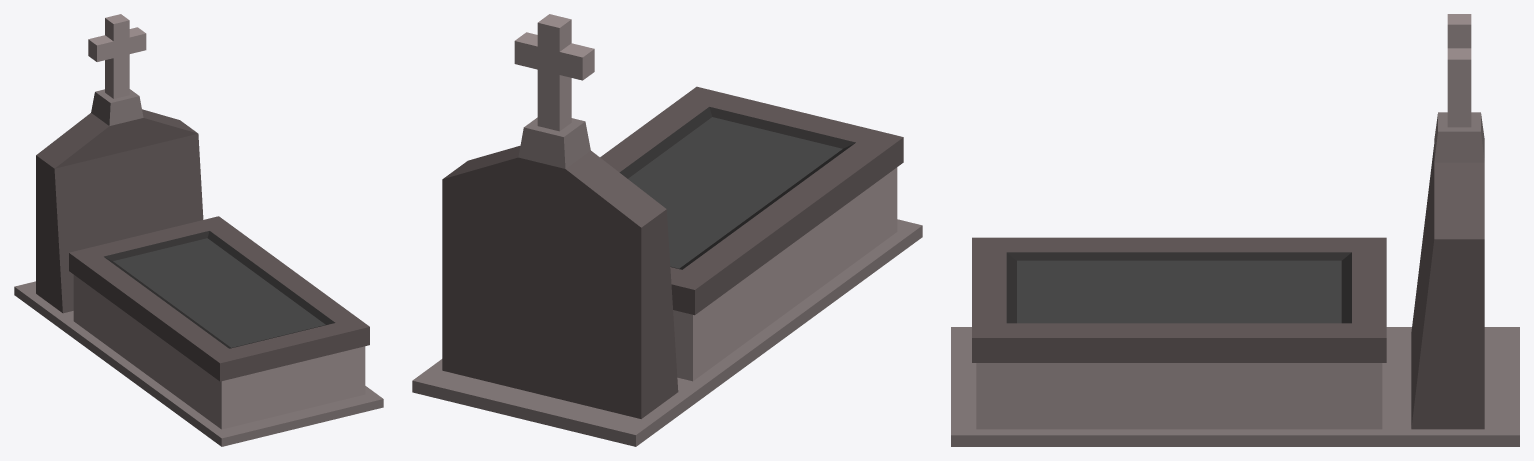
File: HWN20_Grave_14.gltf
3 views of the same model, side by side, from view 1: azimuth 30°, elevation 25°; view 2: azimuth 150°, elevation 25°; view 3: azimuth 270°, elevation 25° (orthographic). The views are drawn at different scales.
Visible parts, largest first — view 1: HWN20_Grave_14_glb; view 2: HWN20_Grave_14_glb; view 3: HWN20_Grave_14_glb.
Part boxes in pixels (x1,y1,x2,y2): HWN20_Grave_14_glb: [14, 14, 383, 446]; HWN20_Grave_14_glb: [412, 14, 922, 446]; HWN20_Grave_14_glb: [951, 14, 1519, 446].
Size of what is drawn, in the model's own units: 0.9895 by 1.59 by 2.2.
1 material, 1 textured.
